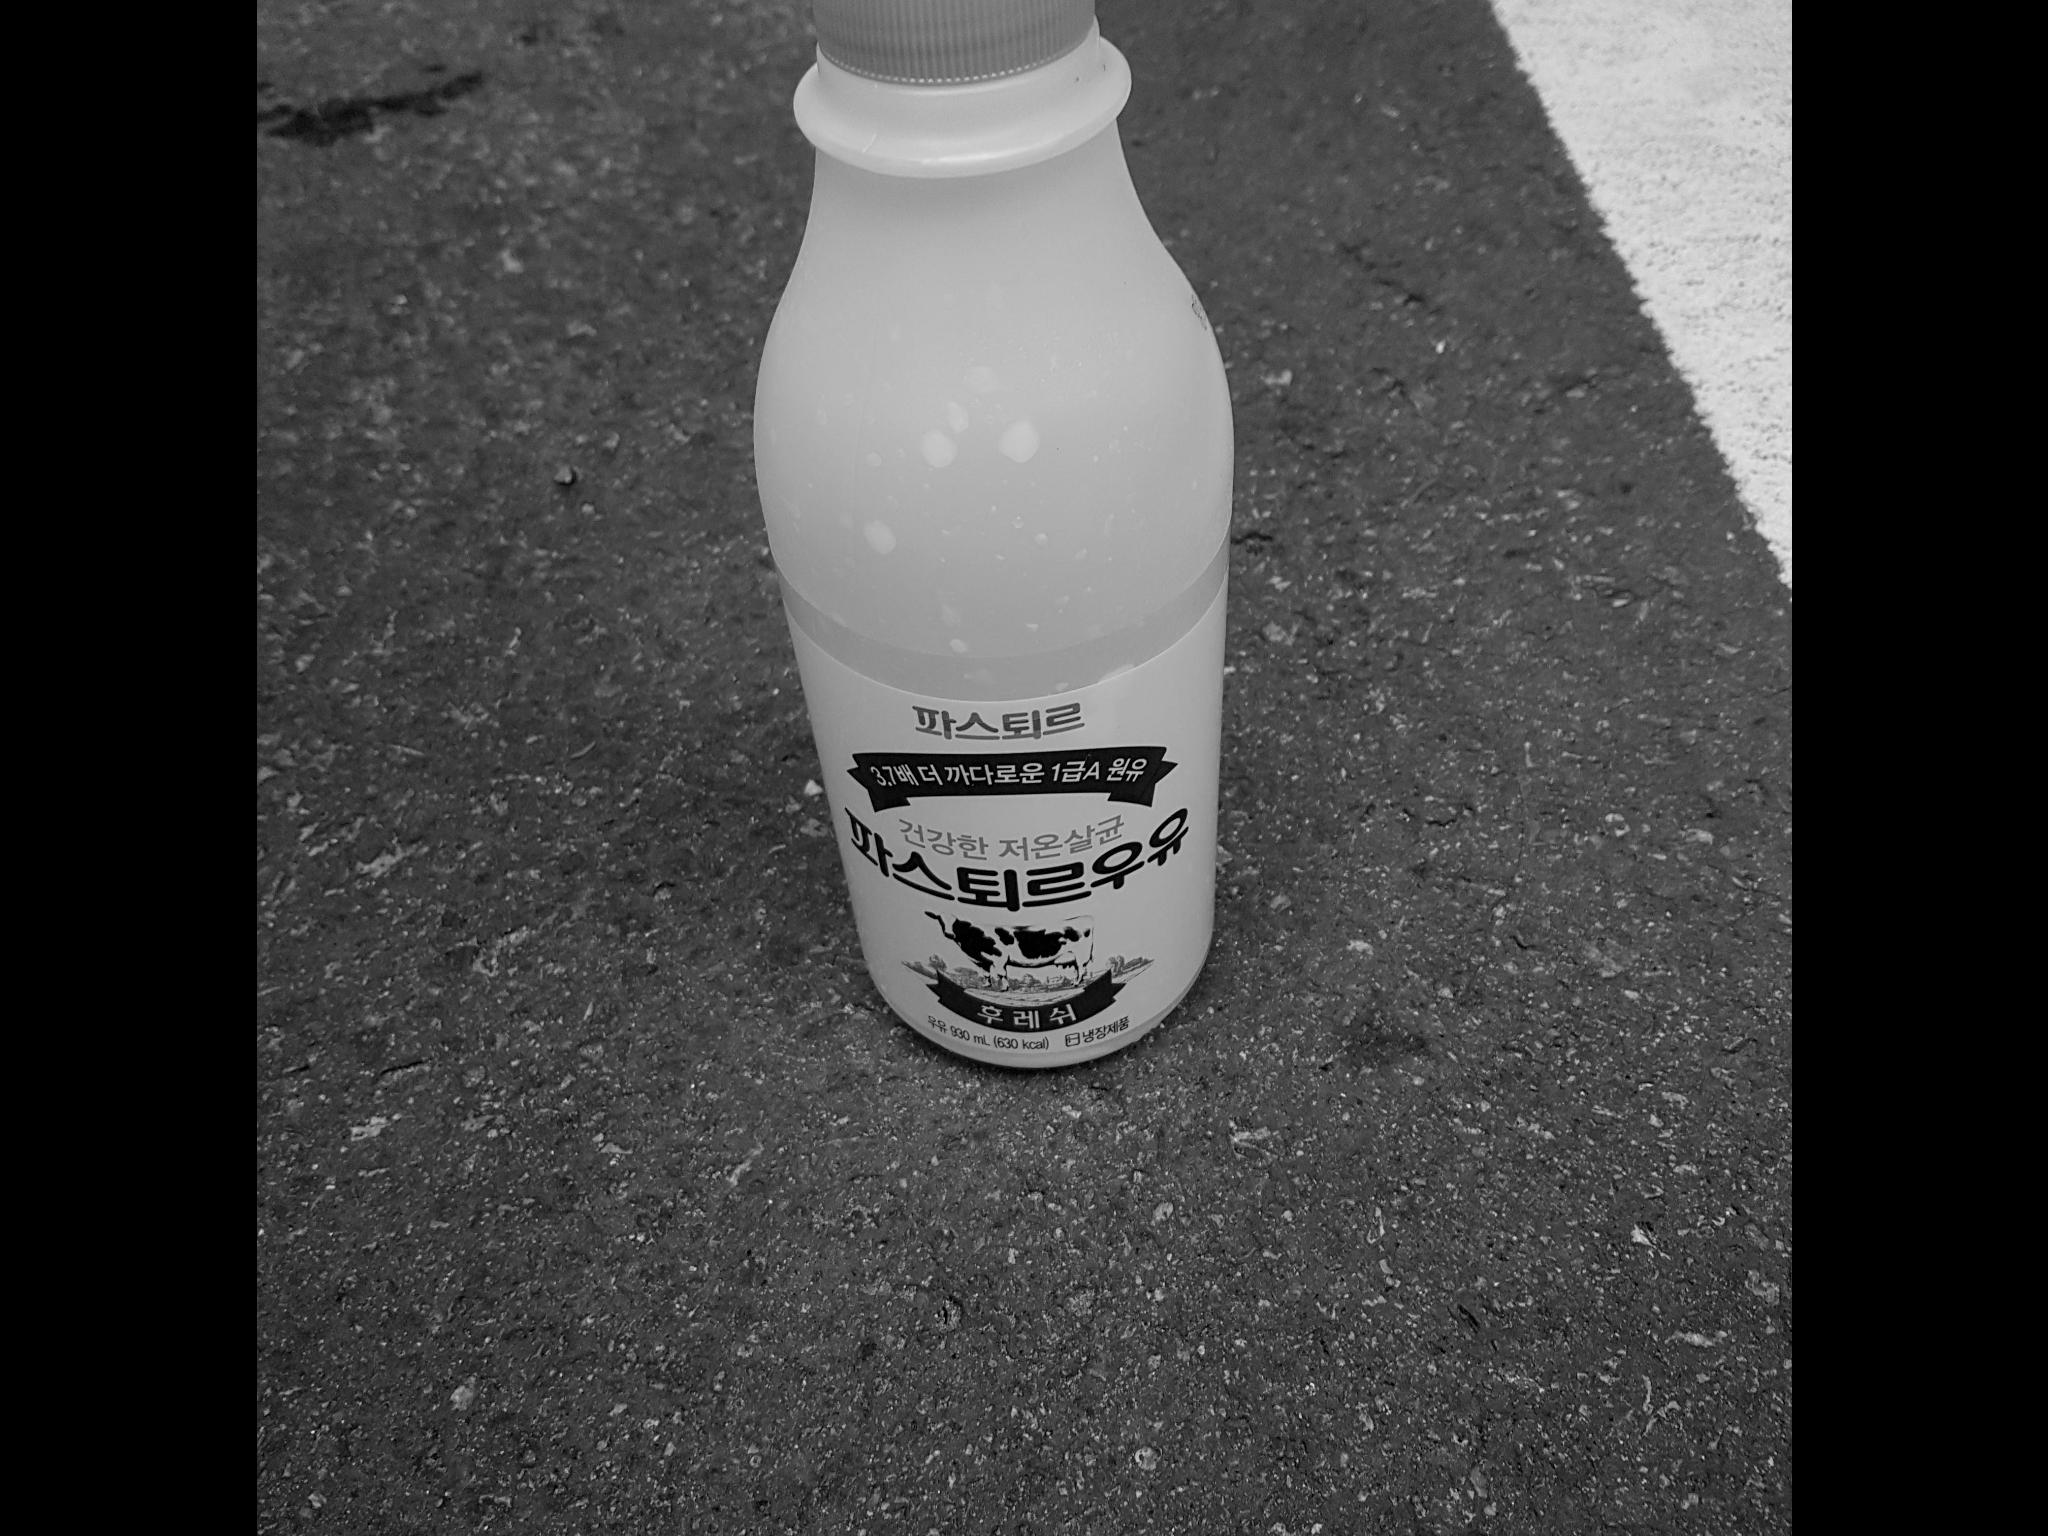bottle: (743, 0, 1234, 1073)
